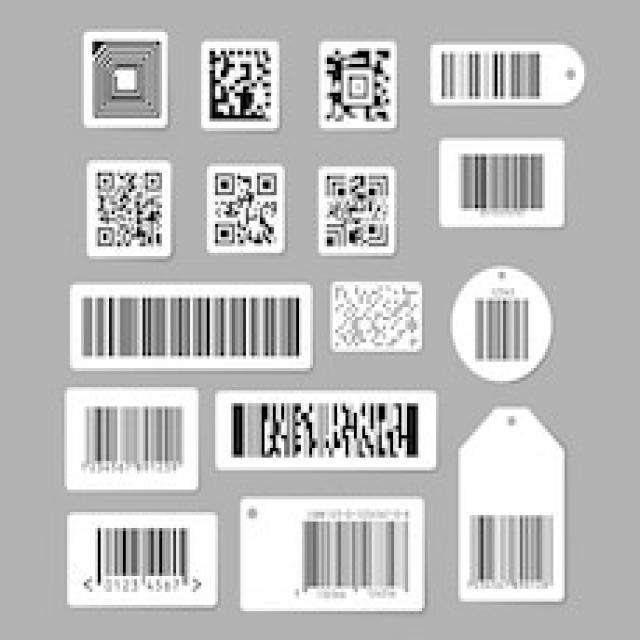Barkod: (73, 287, 304, 366), (226, 394, 434, 472)
